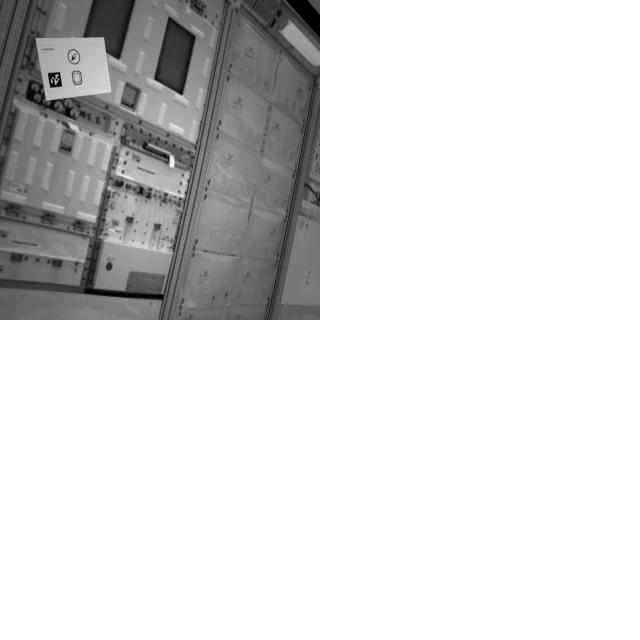compass: (67, 49, 85, 68)
emerald: (71, 69, 85, 89)
